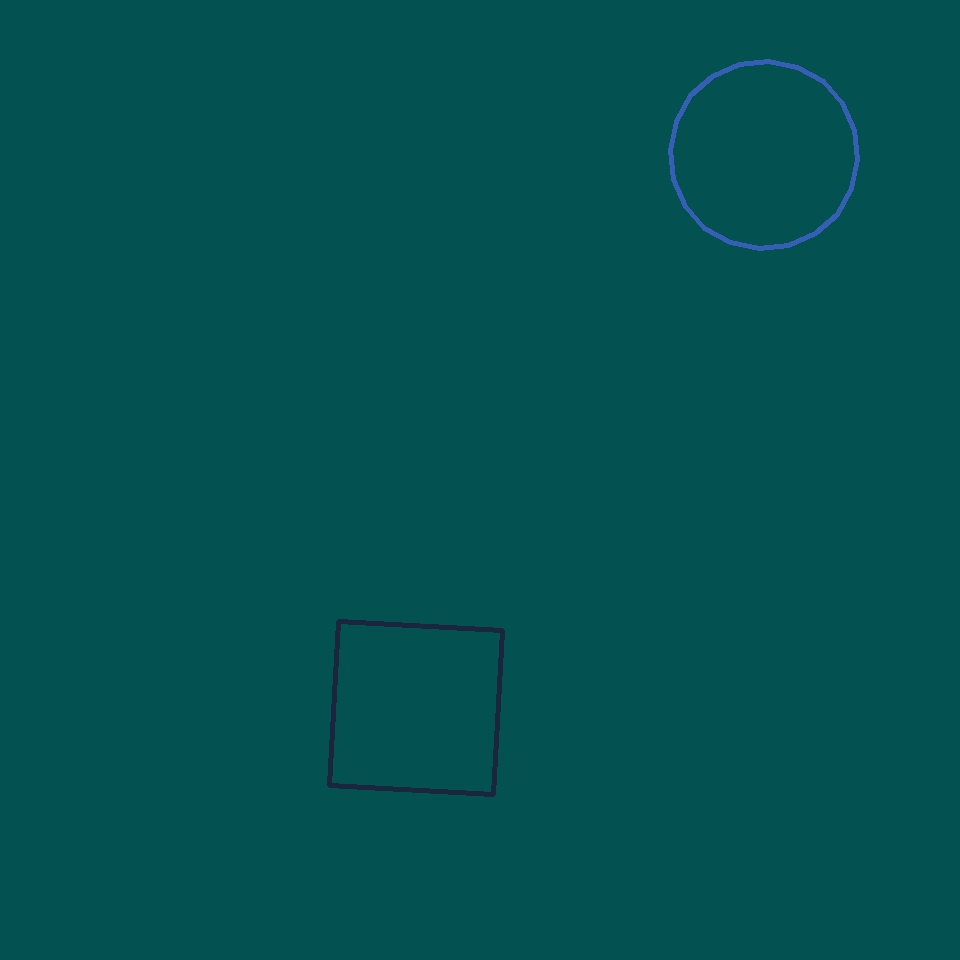square: (330, 622, 502, 794)
triangle: (670, 62, 858, 248)
